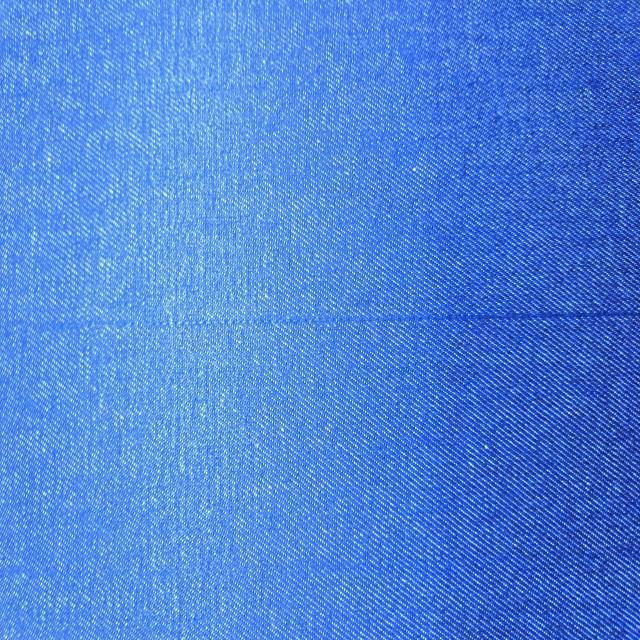Line: (16, 307, 640, 332)
